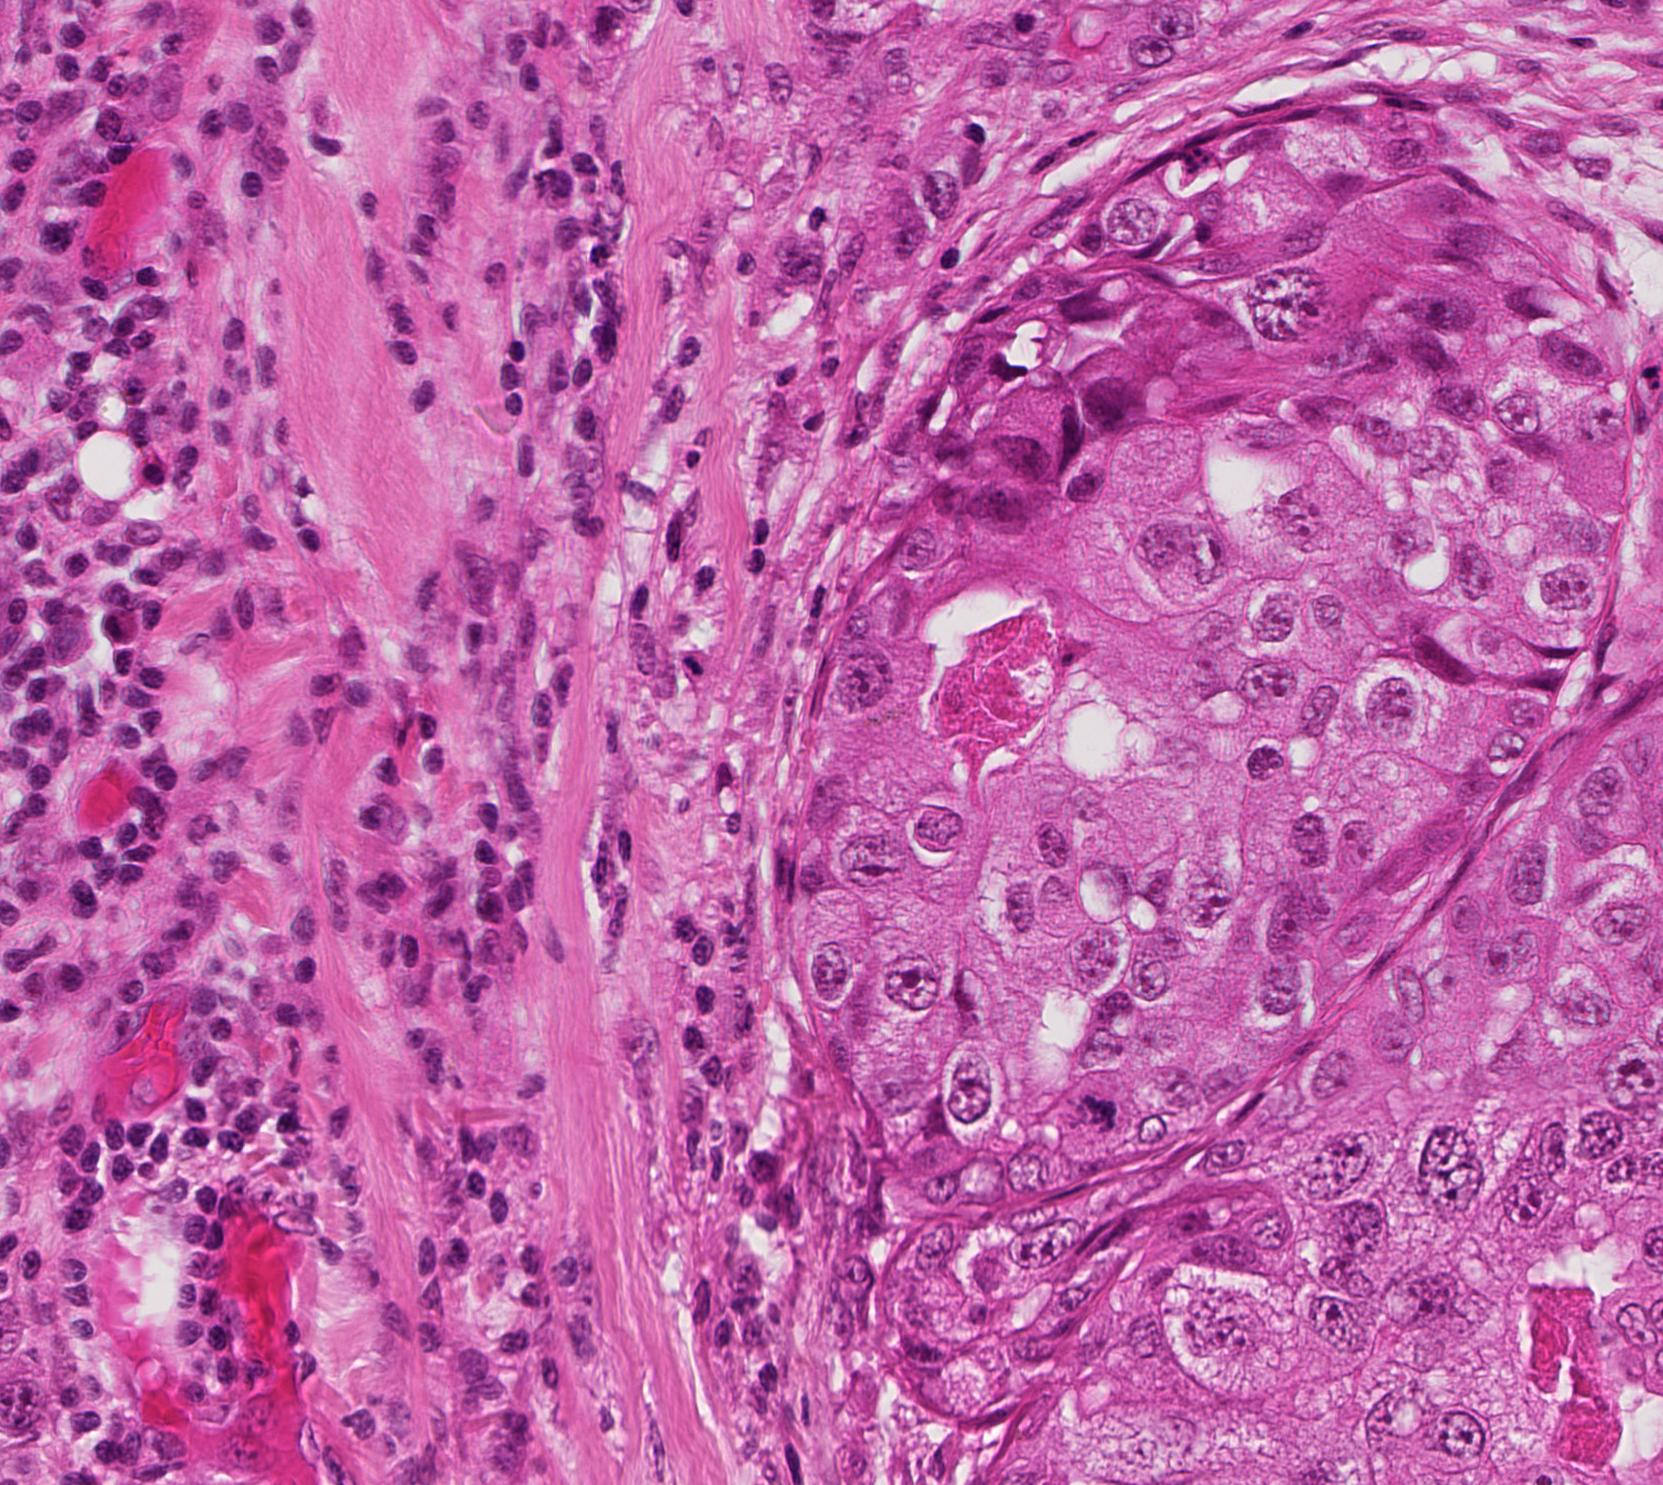mitosis: (1074, 1079, 1134, 1140)
